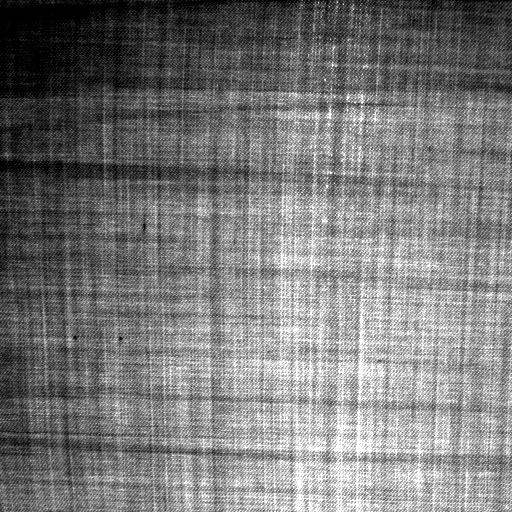fabric_thick_weft: (67, 332, 131, 346)
